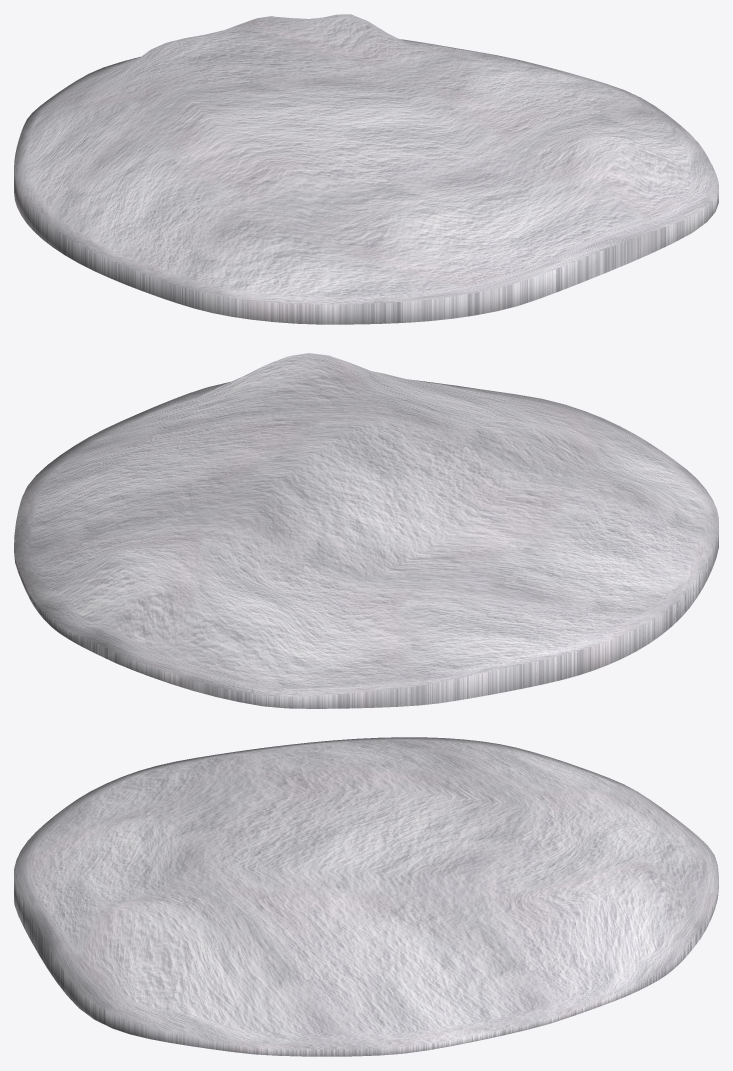
Rendered from Terrain.fbx.
The picture shows the model from 3 angles, top to bottom: view 1: azimuth 30°, elevation 25°; view 2: azimuth 150°, elevation 25°; view 3: azimuth 270°, elevation 25°; orthographic projection. The views are drawn at different scales.
Visible parts, largest first — view 1: SnowPlaneURP; view 2: SnowPlaneURP; view 3: SnowPlaneURP.
Part boxes in pixels (box(x1,y1,x2,y2)): SnowPlaneURP: box(14, 14, 718, 324); SnowPlaneURP: box(14, 353, 718, 708); SnowPlaneURP: box(14, 737, 718, 1056).
Bounding box in the file's own units: 84.58 × 9.84 × 84.45.
